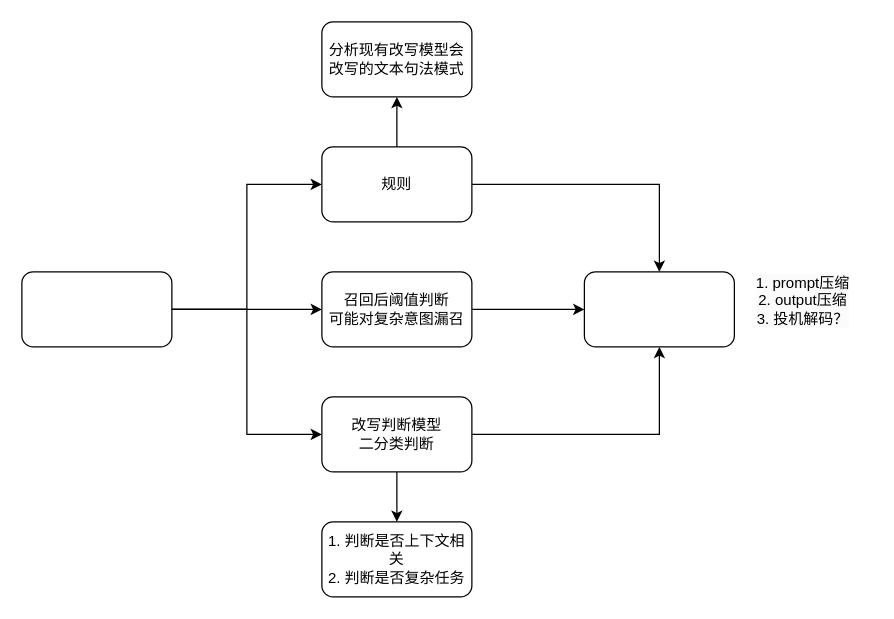
The diagram is 894 pixels wide and 619 high, and some of its shapes have lost their labels. Each missing label, with the centre of its shape:
query: the point at 96,309
改写大模型: the point at 658,309
